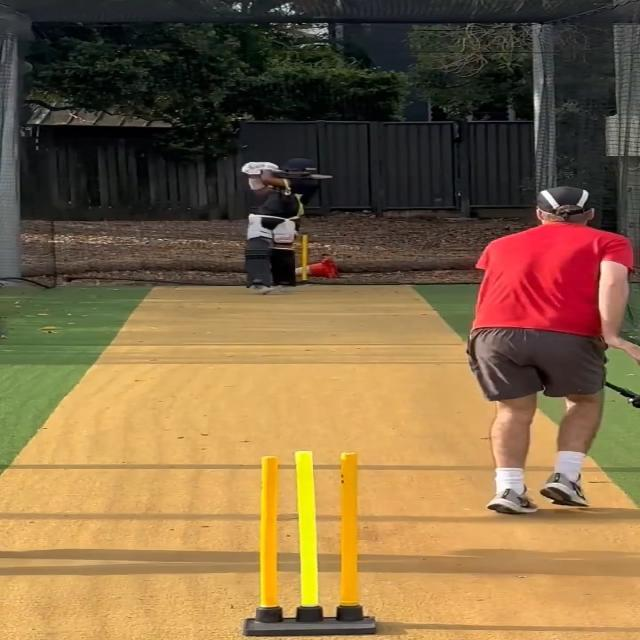stump: (242, 451, 374, 637)
